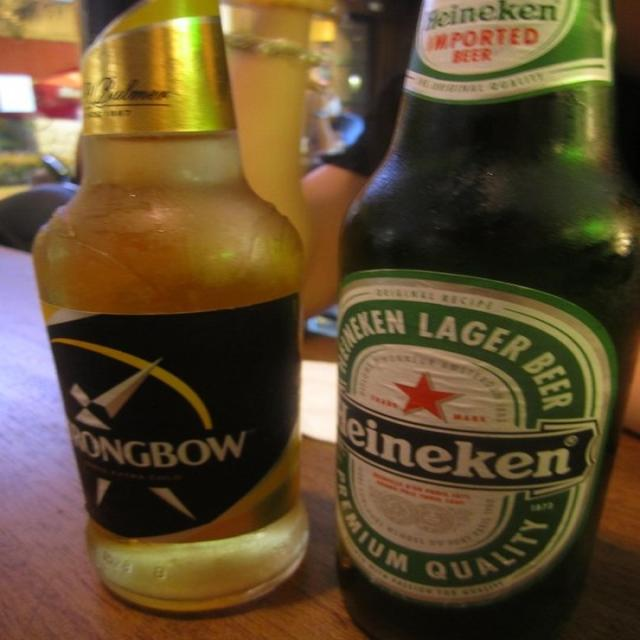heineken: (337, 271, 619, 602)
